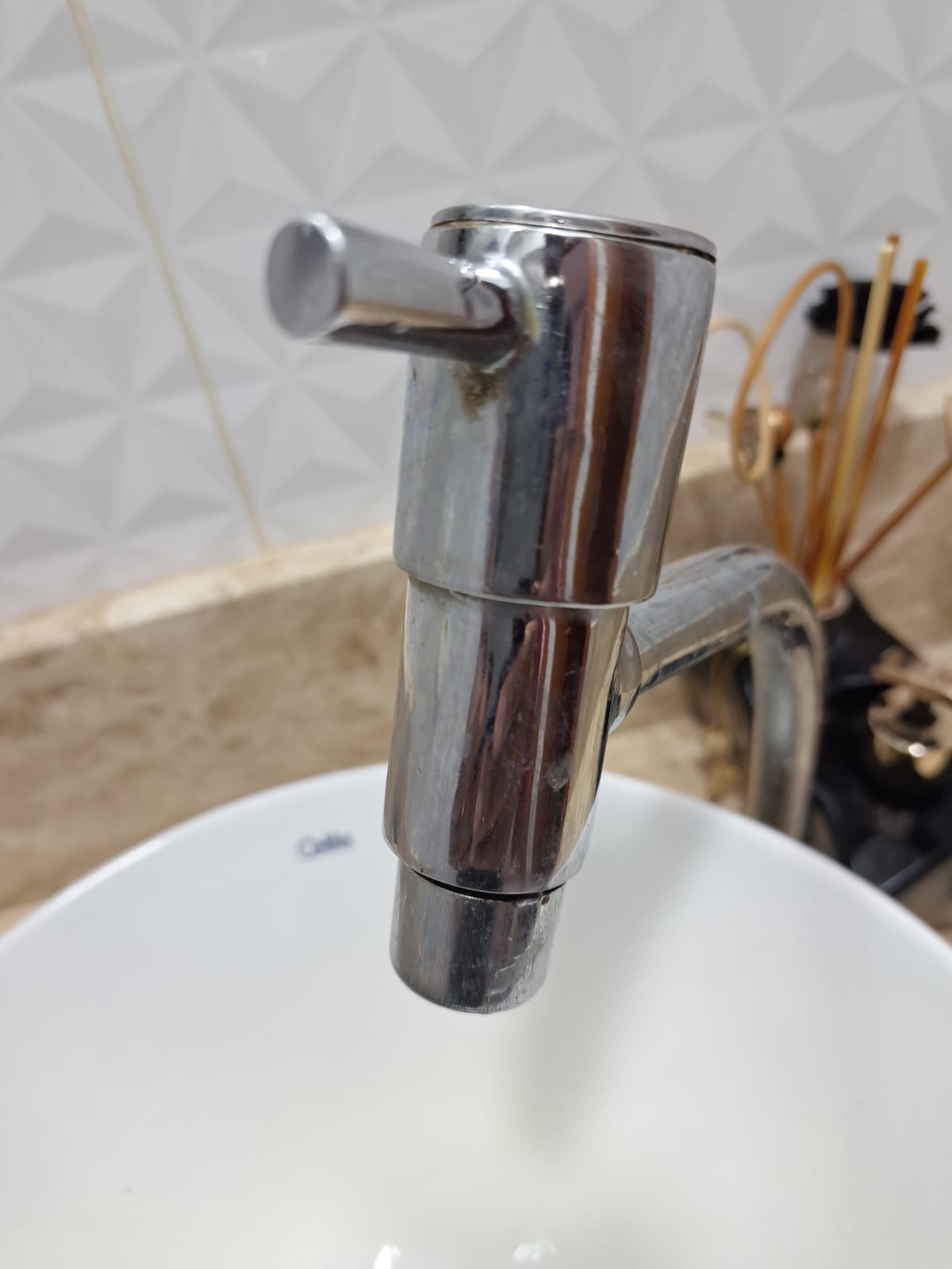torneira_fechada: (235, 154, 744, 1243)
